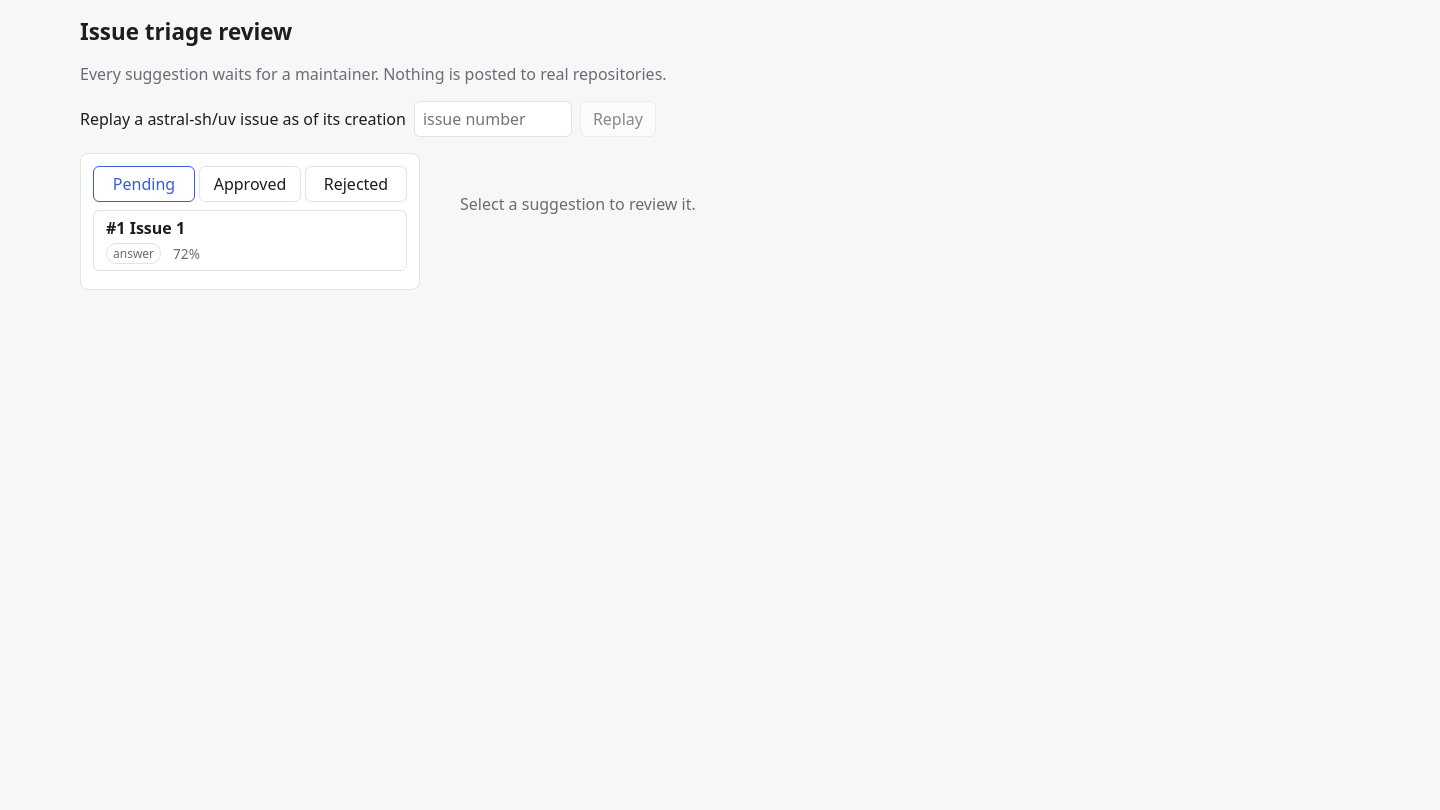
run detail and review actions › rejects and refreshes the queue
The image size is (1440, 810).
Click the button "#1 Issue 1 answer 72%". click: (157, 228)
box: [93,210,407,271]
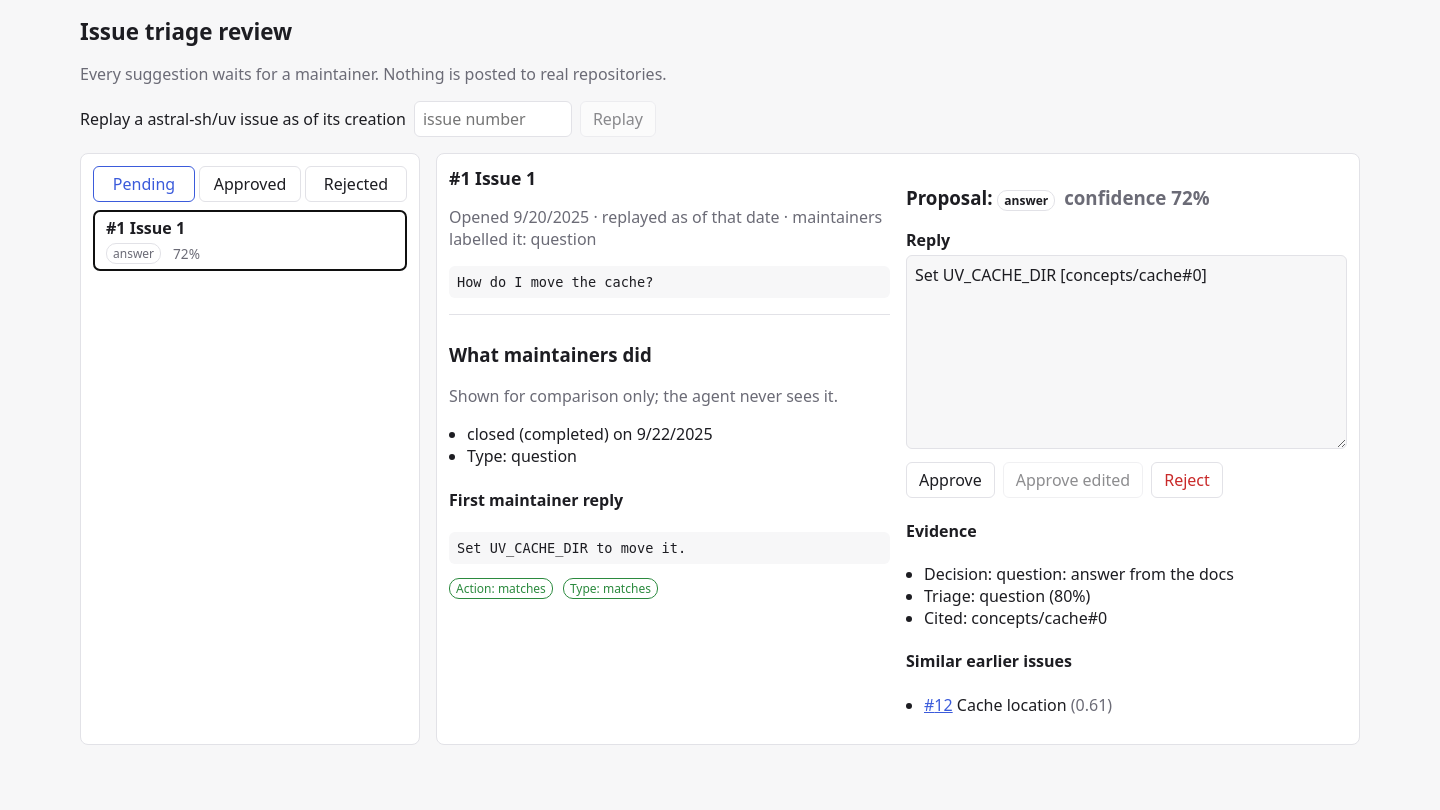
Expected: the heading "#1 Issue 1" is shown, [449,166,536,190]
Click the button "Reject". click: (1187, 480)
box: [1151,462,1223,498]
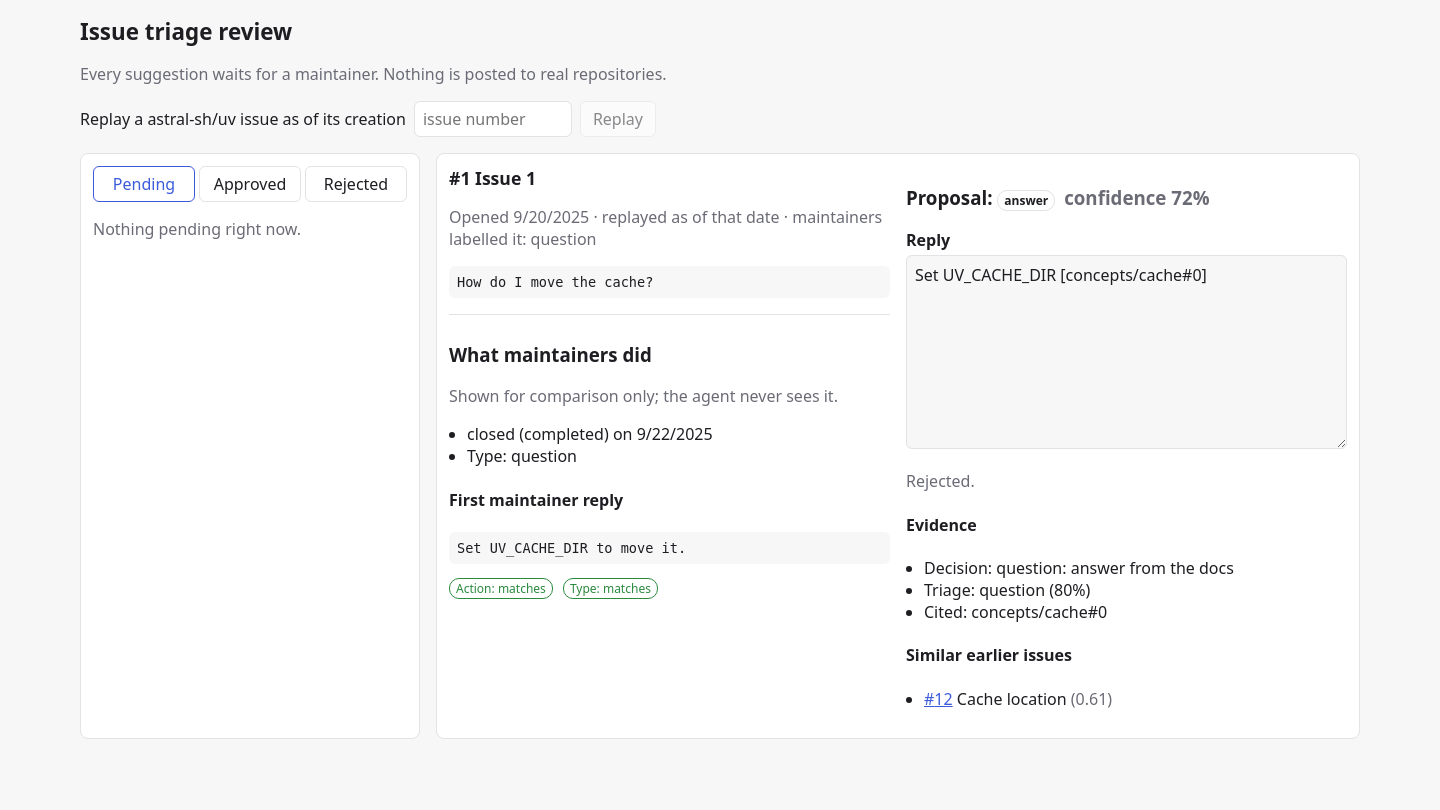
Expected: the text "Nothing pending right now." is shown, [93,218,301,240]
